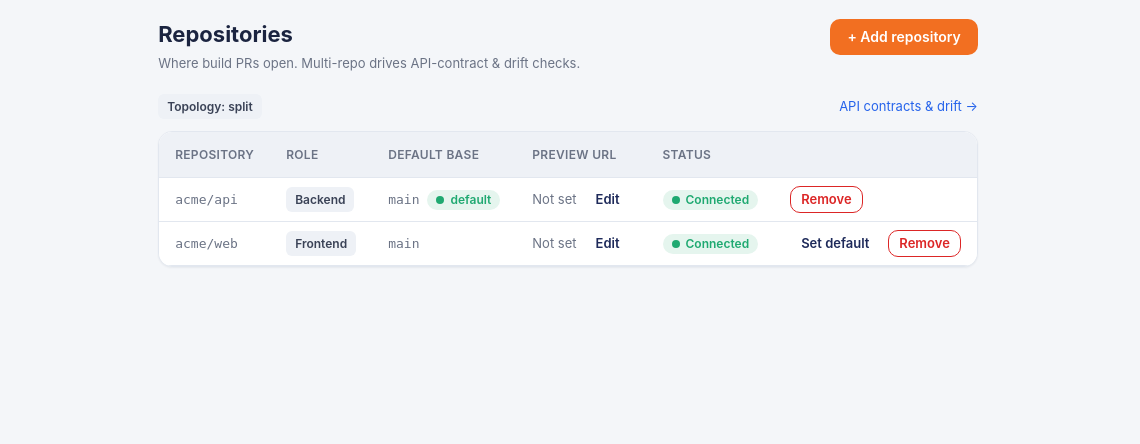
Test: the add form › closes once the repository is added
Check: the text "acme/web" is shown, box [175, 236, 238, 251]
Click the button "+ Add repository": (904, 37) [830, 19, 978, 55]
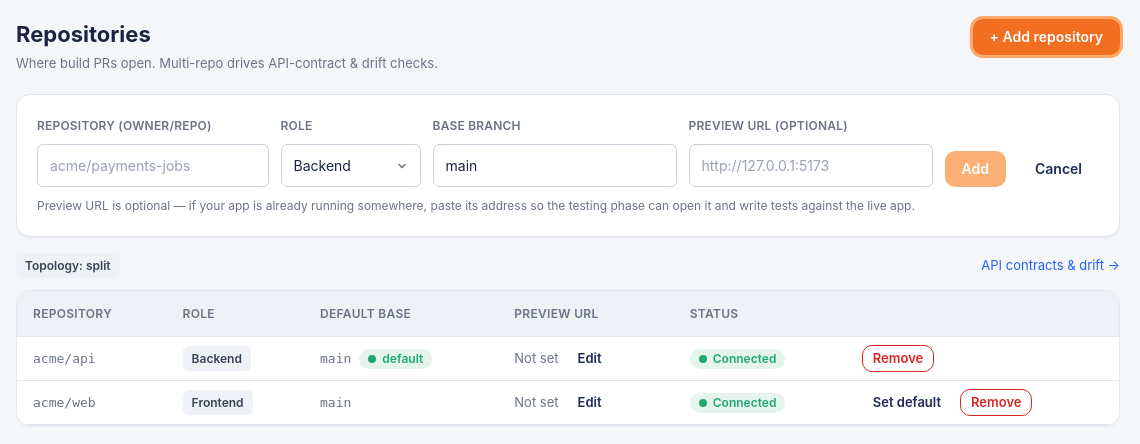
In the field with placeholder "acme/payments-jobs": (153, 166) [37, 144, 268, 187], type "acme/jobs"
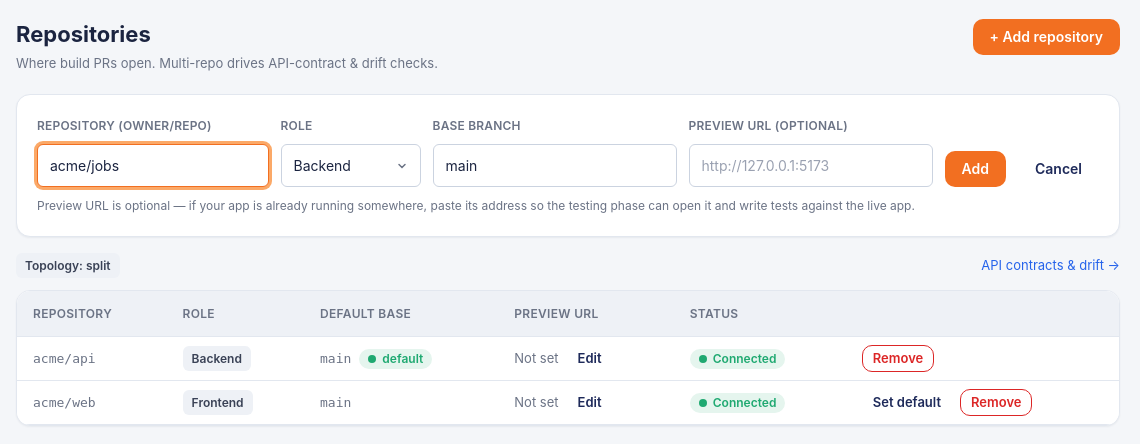
Click the button "Add": (975, 169) [944, 151, 1006, 187]
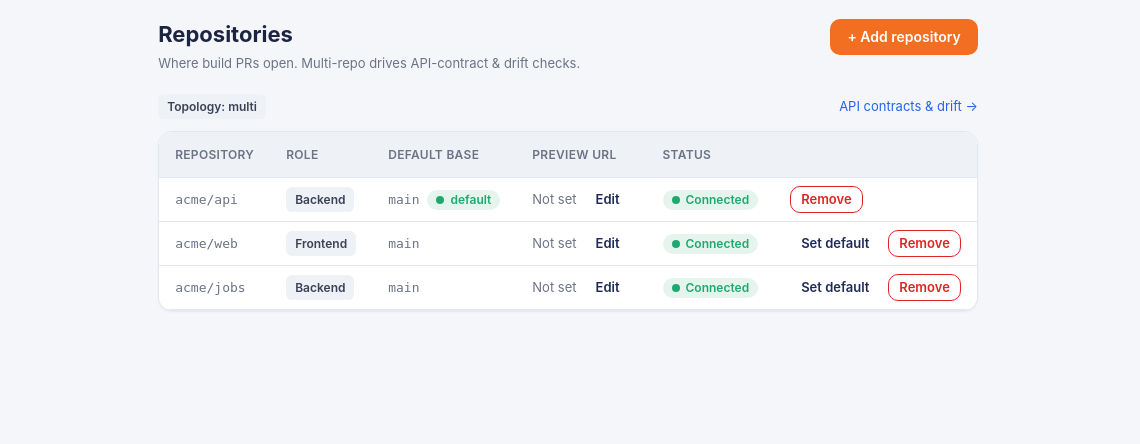
Check: the field with placeholder "acme/payments-jobs" is gone
Check: the text "acme/jobs" is shown, box [175, 280, 246, 295]
